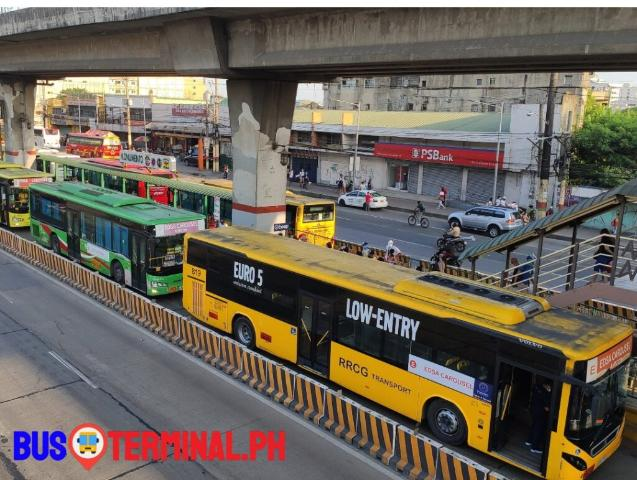bus: (196, 230, 622, 464), (29, 179, 207, 291), (271, 201, 341, 251), (0, 161, 53, 227), (65, 131, 121, 161)
car: (448, 201, 520, 236), (338, 190, 388, 211)
